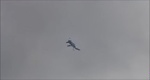maybay_muctieu: (66, 38, 81, 55)
